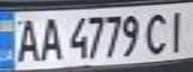4: (63, 12, 87, 60)
7: (84, 12, 106, 60), (103, 11, 124, 60)
9: (121, 11, 145, 58)
A: (12, 15, 42, 63), (36, 14, 63, 62)
C: (142, 9, 172, 55)
I: (163, 7, 193, 54)
